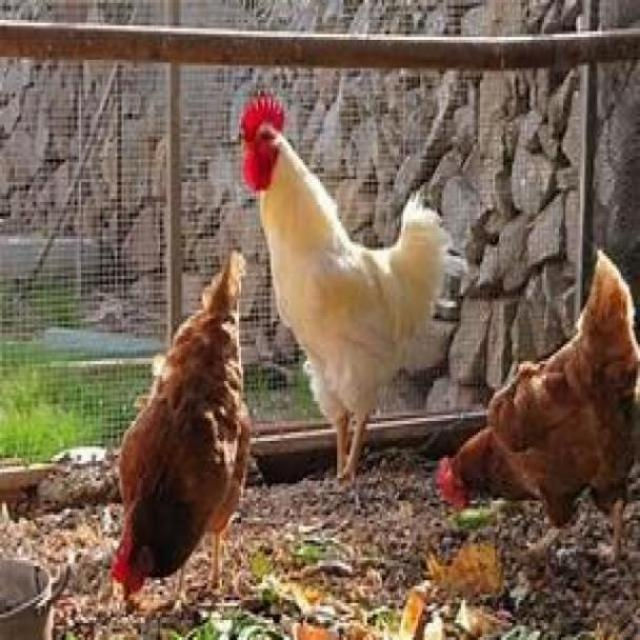Chicken: (237, 91, 463, 484), (437, 251, 640, 561), (111, 250, 252, 606)
